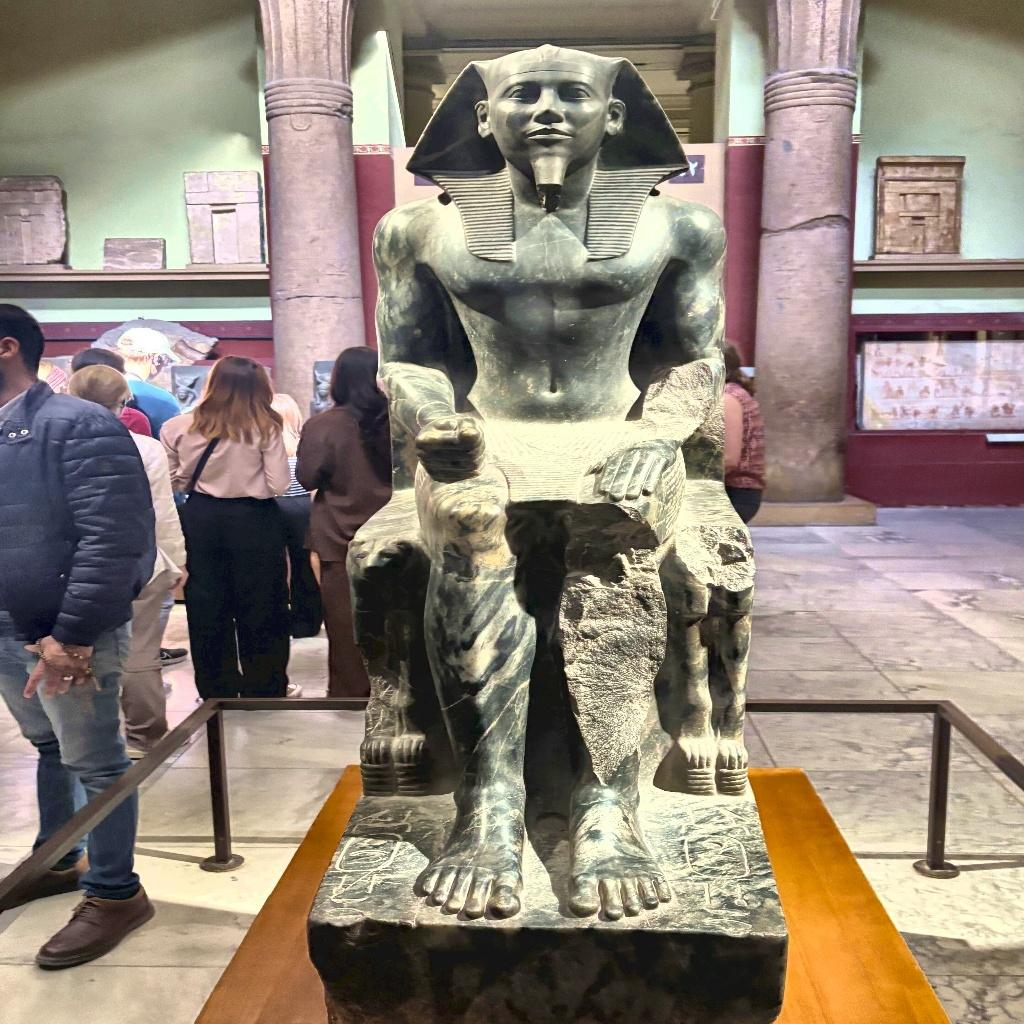Statue of Khafre: (366, 43, 732, 921)
